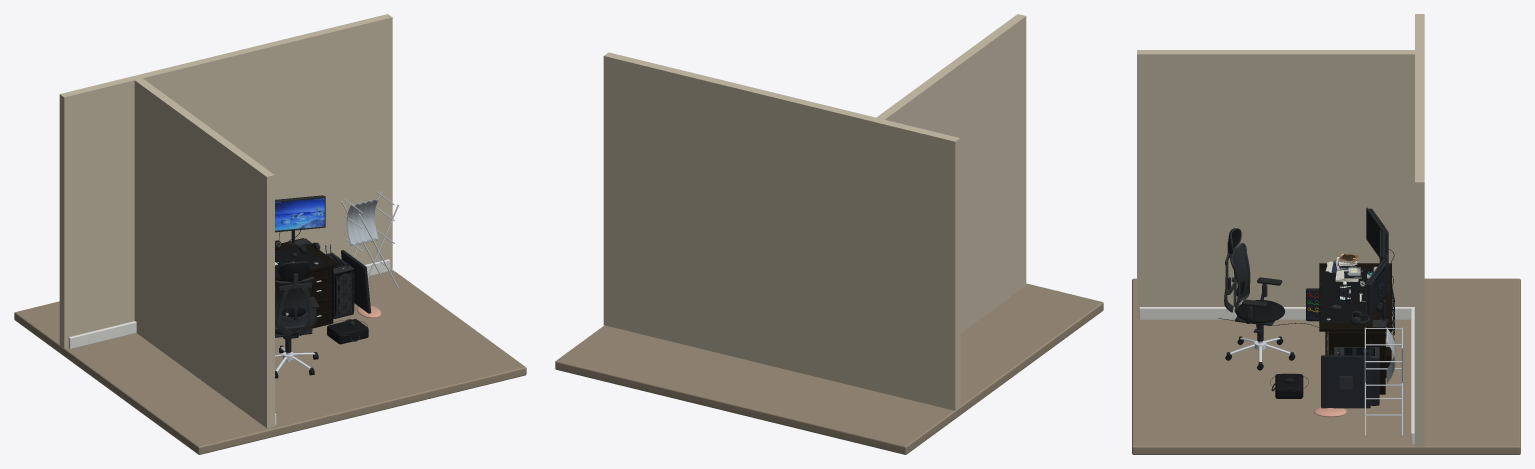
The model's file is desk-setup.glb.
3 renders of one model, left to right at view 1: azimuth 30°, elevation 25°; view 2: azimuth 150°, elevation 25°; view 3: azimuth 270°, elevation 25°, orthographic. The views are drawn at different scales.
Parts seen in each view (by area): view 1: Back wall.001, Carpet floor.001, acer • left front bezel.001, acer • left rear enclosure.001, Black padded carrying case.001, acer • right display • photo texture.001, Accessory label 0.001, Towel draped from rack.001, Left drawer 1 • shaped finger pull.001, Caster pivot 0.001, Chair molded lumbar bridge.001, Chair curved woven backrest.001 (+3 smaller); view 2: Back wall.001, Carpet floor.001; view 3: Back wall.001, Carpet floor.001, acer • left rear enclosure.001, Black padded carrying case.001, Accessory label 0.001, Desktop • black brown veneer.001, acer • left front bezel.001, Caster pivot 0.001, acer • left power cable.001, acer • left cooling slot.025, Chair curved woven backrest.001, Armrest padded top.002 (+2 smaller).
Part boxes in pixels (left/top/right/bottom): Back wall.001: left=59, top=14, right=392, bottom=428; Carpet floor.001: left=14, top=269, right=526, bottom=454; acer • left front bezel.001: left=275, top=196, right=367, bottom=373; acer • left rear enclosure.001: left=275, top=195, right=371, bottom=374; Black padded carrying case.001: left=275, top=244, right=368, bottom=344; acer • right display • photo texture.001: left=275, top=197, right=324, bottom=231; Accessory label 0.001: left=68, top=259, right=390, bottom=424; Towel draped from rack.001: left=346, top=198, right=378, bottom=245; Left drawer 1 • shaped finger pull.001: left=305, top=267, right=333, bottom=328; Caster pivot 0.001: left=275, top=191, right=398, bottom=375; Chair molded lumbar bridge.001: left=276, top=283, right=314, bottom=336; Chair curved woven backrest.001: left=275, top=279, right=312, bottom=327; Back wall.001: left=603, top=14, right=1026, bottom=410; Carpet floor.001: left=555, top=283, right=1103, bottom=454; Back wall.001: left=1137, top=14, right=1424, bottom=446; Carpet floor.001: left=1132, top=278, right=1520, bottom=454; acer • left rear enclosure.001: left=1226, top=208, right=1389, bottom=408; Black padded carrying case.001: left=1236, top=269, right=1371, bottom=398; Accessory label 0.001: left=1139, top=257, right=1414, bottom=444; Desktop • black brown veneer.001: left=1319, top=263, right=1391, bottom=394; acer • left front bezel.001: left=1227, top=207, right=1389, bottom=391; Caster pivot 0.001: left=1230, top=327, right=1402, bottom=435; acer • left power cable.001: left=1218, top=249, right=1394, bottom=405; acer • left cooling slot.025: left=1308, top=217, right=1385, bottom=355; Chair curved woven backrest.001: left=1232, top=245, right=1248, bottom=298; Armrest padded top.002: left=1242, top=277, right=1370, bottom=324.
Size of the model in its own units: 4.1 by 3.1 by 4.
Materials: 38 (5 with a texture image).
